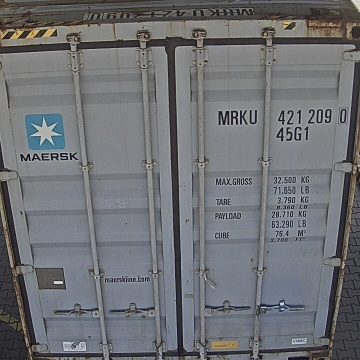serial_id: (218, 107, 348, 124)
